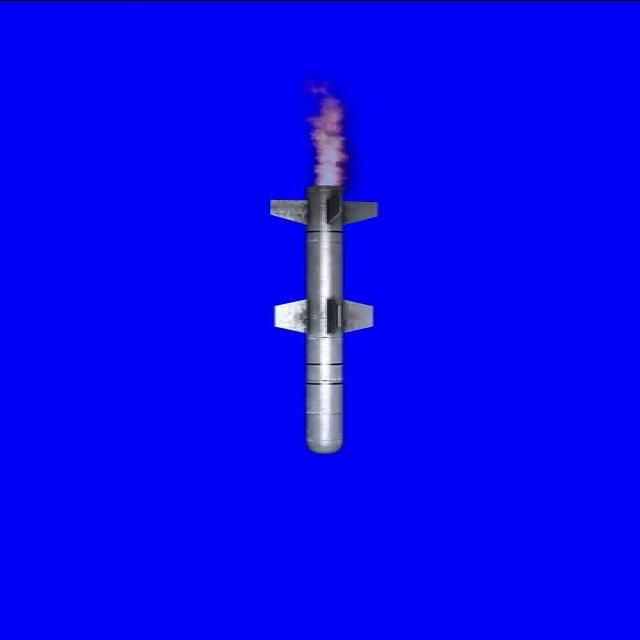Missile: (260, 187, 384, 457)
